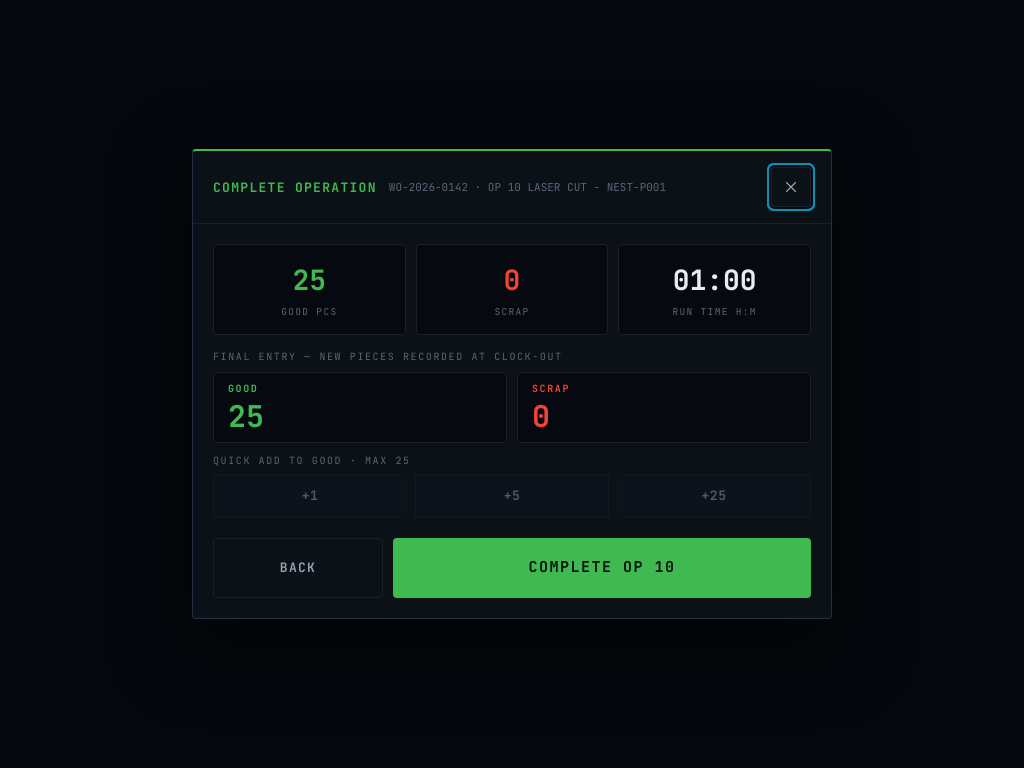
KioskCompleteModal — quantity quick adds › the server ceiling › tops out at the ceiling instead of overshooting it
The image size is (1024, 768).
Click the button with test id "kiosk-qty-good" at (243, 388), box [213, 372, 507, 443]
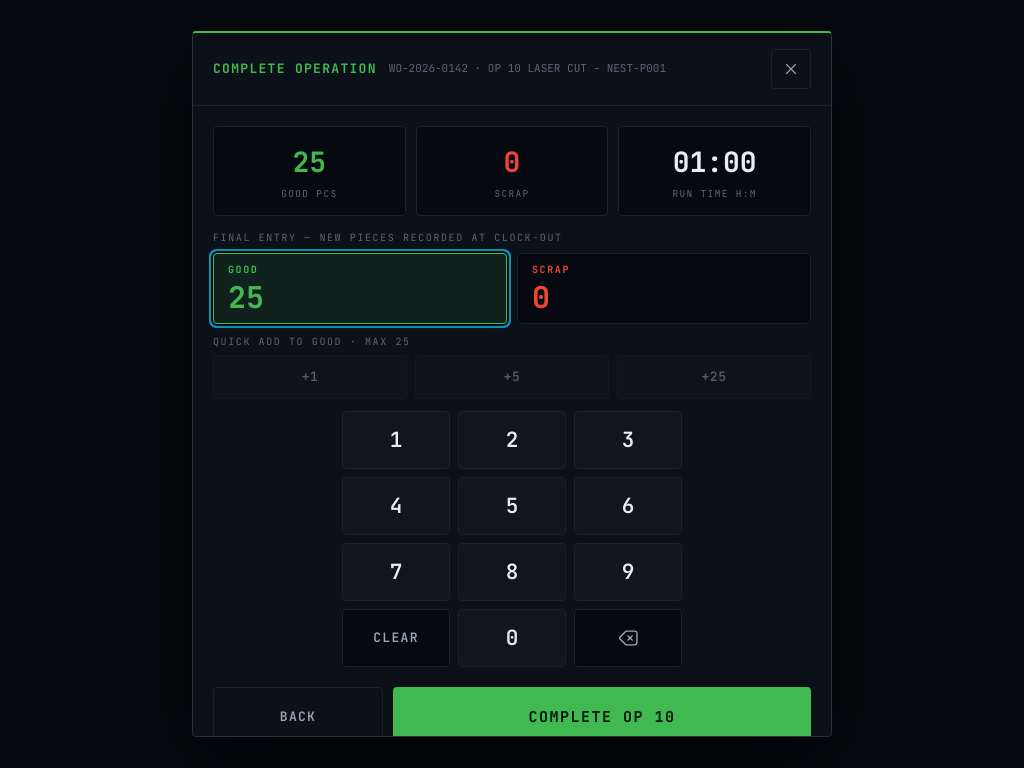
Click the button "Clear" at (396, 638), box [342, 609, 450, 667]
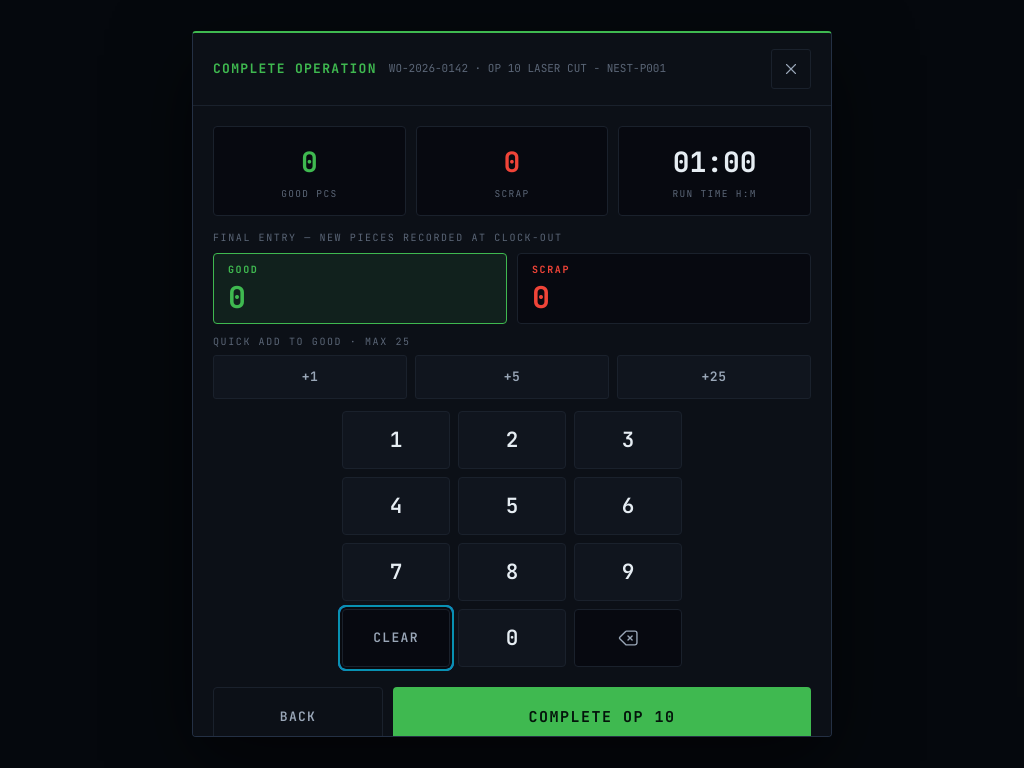
Click the button "+25" at (714, 377), box [617, 355, 811, 399]
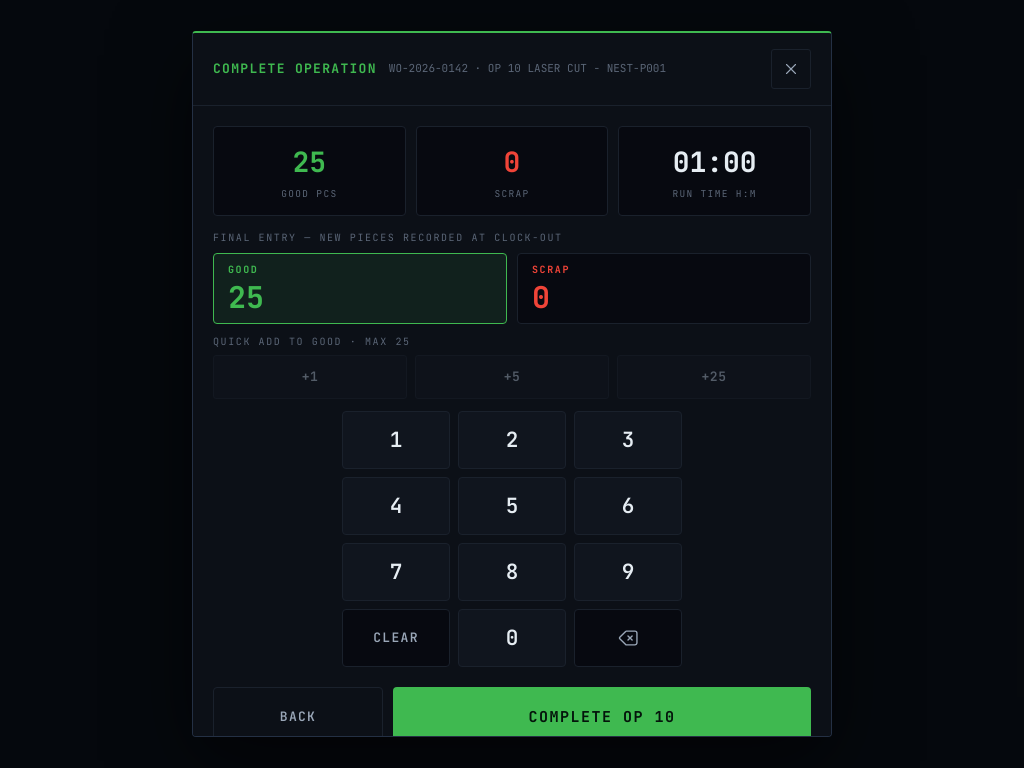
expect the 2nd text "25" is shown: met, box [228, 277, 264, 317]
